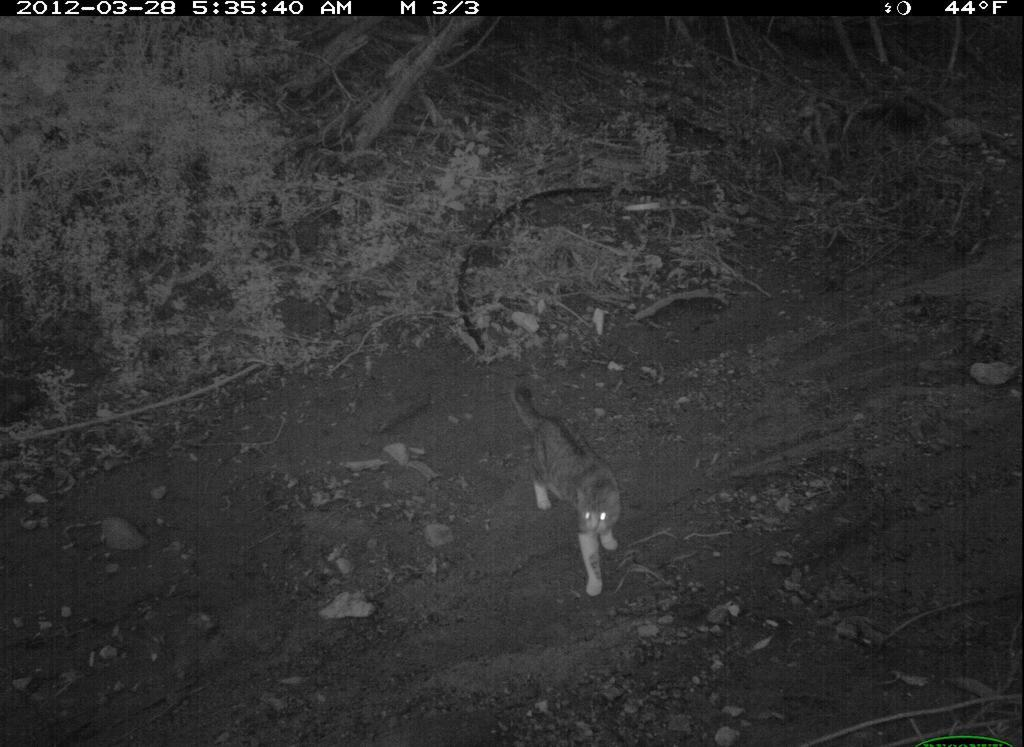cat: (509, 385, 632, 601)
